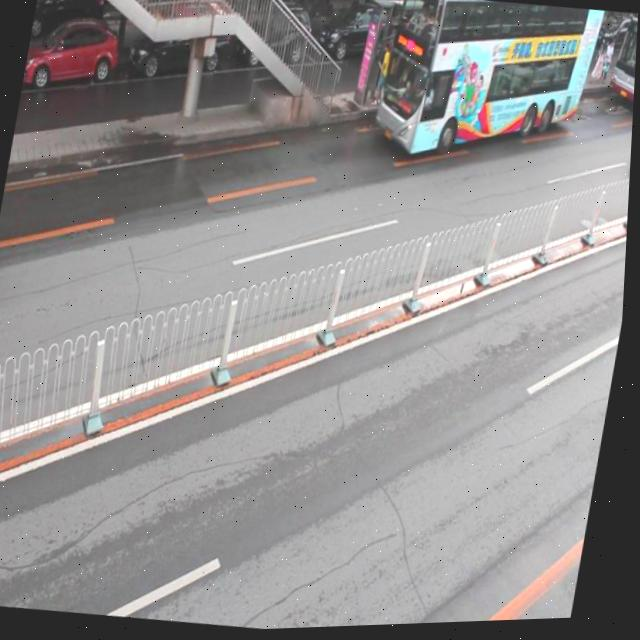car: (23, 9, 125, 97), (129, 4, 234, 83), (315, 0, 401, 66), (241, 0, 314, 70)
van: (370, 0, 603, 179), (605, 17, 639, 112)
